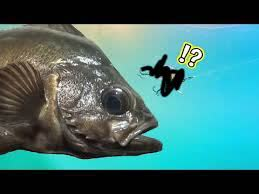mebaru: (42, 51, 164, 164)
